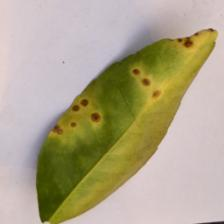canker: (40, 72, 181, 157)
